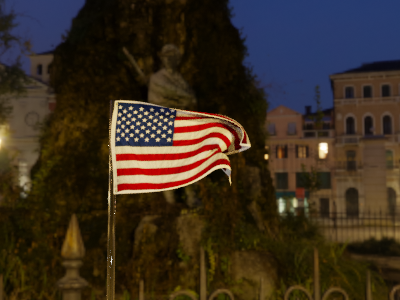America flag: (112, 99, 253, 195)
